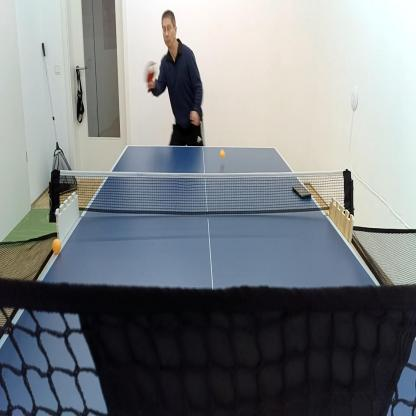Ball: (51, 236, 62, 255), (148, 64, 156, 74), (220, 147, 226, 160)
